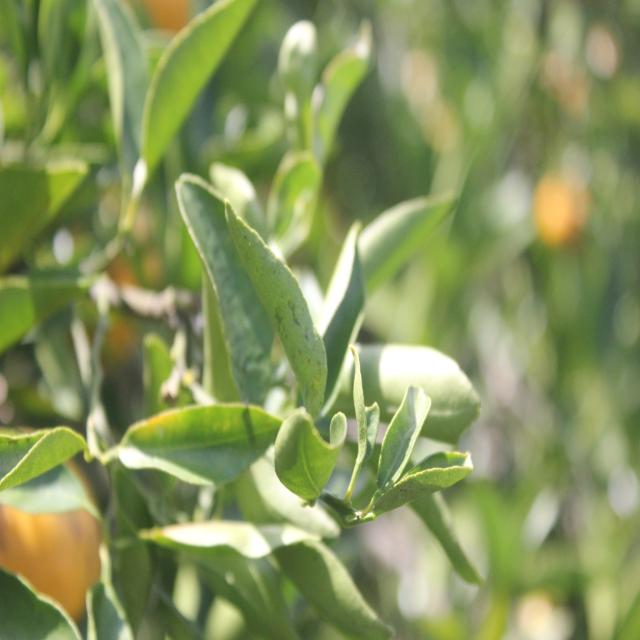melanose: (236, 212, 338, 405)
